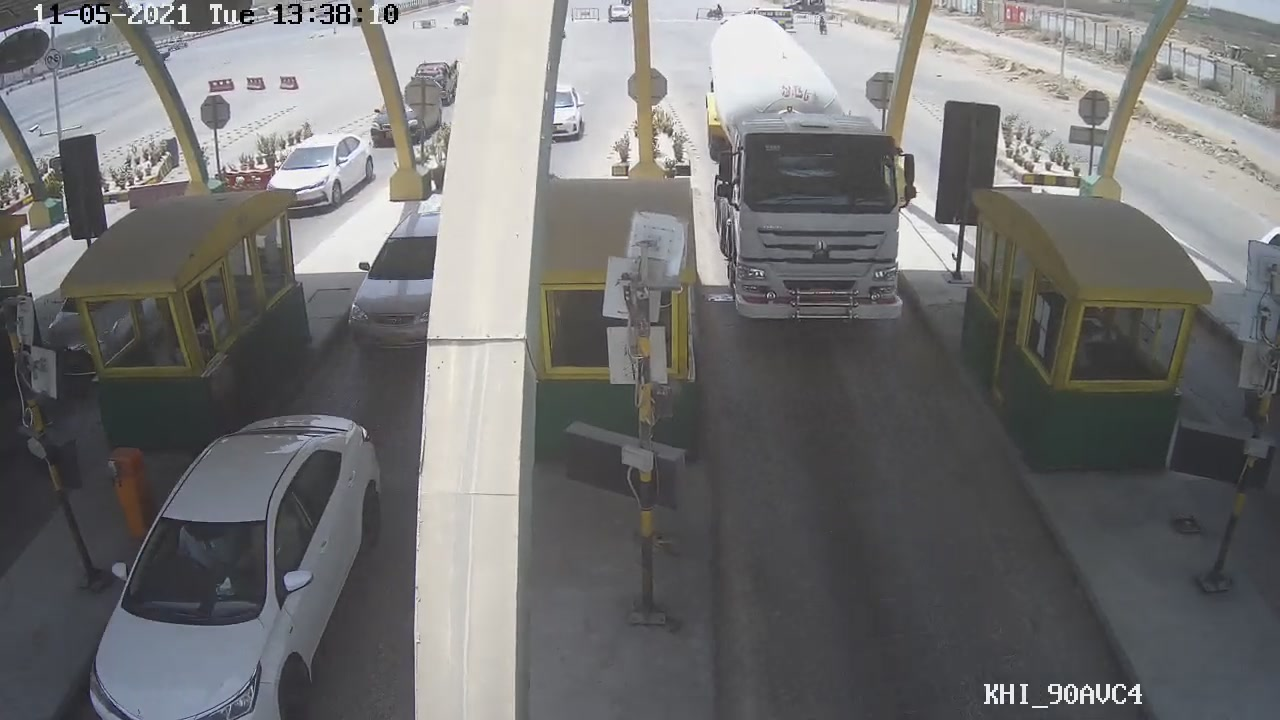F6: (701, 39, 926, 323)
